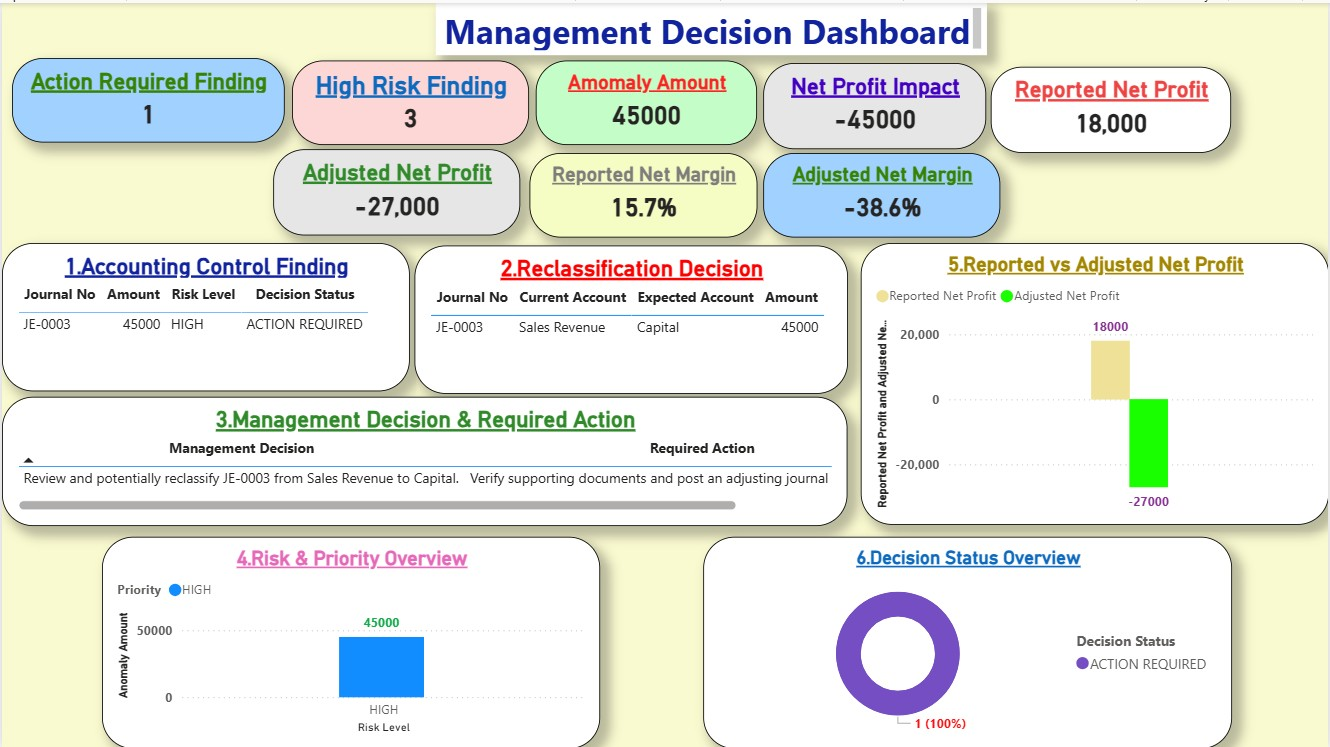

The page's visual inventory and layout, read from the dashboard file:
{"tool":"powerbi","page":{"name":"Management Decision Dashboard","canvas":[1280,720],"ordinal":1},"visuals":[{"type":"textbox","box":[418.1,0,531.8,50.7],"z":0},{"type":"card","title":"Action Required Finding","fields":{"Values":["Measures (2).Action Required Findings"]},"box":[9.2,52.7,262.8,81.5],"z":1000},{"type":"card","title":"High Risk Finding","fields":{"Values":["Measures (2).High Risk Findings"]},"box":[279.7,55.3,229,81.5],"z":2000},{"type":"card","title":"Amomaly Amount","fields":{"Values":["Measures (2).Anomaly Amount"]},"box":[514.9,55.3,213.6,81.5],"z":3000},{"type":"card","title":"Net Profit Impact ","fields":{"Values":["Measures (2).Net Profit Impact"]},"box":[734.7,57.3,215.2,83],"z":4000},{"type":"card","title":"Reported Net Profit","fields":{"Values":["Measures (2).Reported Net Profit"]},"box":[954.5,61.9,232.1,83],"z":5000},{"type":"card","title":"Adjusted Net Profit","fields":{"Values":["Measures (2).Adjusted Net Profit"]},"box":[261.3,141.4,238.2,83],"z":6000},{"type":"card","title":"Reported Net Margin","fields":{"Values":["Measures (2).Reported Net Margin"]},"box":[508.7,144.9,219.8,81.5],"z":7000},{"type":"card","title":"Adjusted Net Margin","fields":{"Values":["Measures (2).Adjusted Net Margin"]},"box":[734.7,144.9,229,81.5],"z":8000},{"type":"tableEx","title":"1.Accounting Control Finding","fields":{"Values":["PowerBI_Management.Journal No","PowerBI_Management.Amount","PowerBI_Management.Risk Level","PowerBI_Management.Decision Status"]},"box":[0,232.2,393.5,142.9],"z":9000},{"type":"tableEx","title":"2.Reclassification Decision","fields":{"Values":["PowerBI_Management.Journal No","PowerBI_Management.Current Account","PowerBI_Management.Expected Account","PowerBI_Management.Amount"]},"box":[398.1,233.8,418.1,142.9],"z":10000},{"type":"tableEx","title":"3.Management Decision & Required Action","fields":{"Values":["PowerBI_Management.Management Decision","PowerBI_Management.Required Action"]},"box":[0,379.6,816.1,124.5],"z":11000},{"type":"clusteredColumnChart","title":"4.Risk & Priority Overview","fields":{"Category":["PowerBI_Management.Risk Level"],"Series":["PowerBI_Management.Priority"],"Y":["Measures (2).Anomaly Amount"]},"box":[96.8,514.9,481.1,204.4],"z":12000},{"type":"clusteredColumnChart","title":"5.Reported vs Adjusted  Net Profit","fields":{"Y":["Measures (2).Reported Net Profit","Measures (2).Adjusted Net Profit"]},"box":[828.4,232.1,451.9,272],"z":13000},{"type":"donutChart","title":"6.Decision Status Overview","fields":{"Category":["PowerBI_Management.Decision Status"],"Y":["CountNonNull(PowerBI_Management.Journal No)"]},"box":[676.3,514.9,510.3,204.4],"z":14000}]}

Visuals, with their boxes in screenshot pixels (x1, y1, x2, y2), scaled from the page's 1280x720 canvas onto the 1330x747 screenshot:
textbox: detection(434, 0, 987, 53)
"Action Required Finding" card: detection(10, 55, 283, 139)
"High Risk Finding" card: detection(291, 57, 529, 142)
"Amomaly Amount" card: detection(535, 57, 757, 142)
"Net Profit Impact " card: detection(763, 59, 987, 146)
"Reported Net Profit" card: detection(992, 64, 1233, 150)
"Adjusted Net Profit" card: detection(272, 147, 519, 233)
"Reported Net Margin" card: detection(529, 150, 757, 235)
"Adjusted Net Margin" card: detection(763, 150, 1001, 235)
"1.Accounting Control Finding" tableEx: detection(0, 241, 409, 389)
"2.Reclassification Decision" tableEx: detection(414, 243, 848, 391)
"3.Management Decision & Required Action" tableEx: detection(0, 394, 848, 523)
"4.Risk & Priority Overview" clusteredColumnChart: detection(101, 534, 600, 746)
"5.Reported vs Adjusted  Net Profit" clusteredColumnChart: detection(861, 241, 1329, 523)
"6.Decision Status Overview" donutChart: detection(703, 534, 1233, 746)
